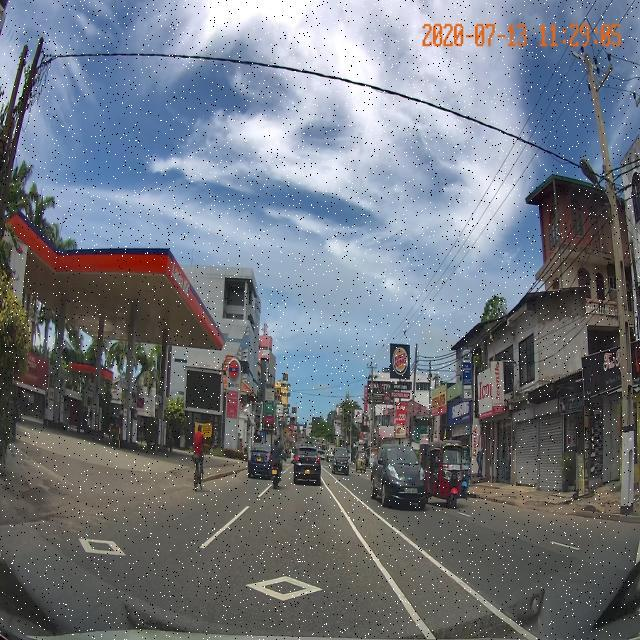diamond: (162, 560, 427, 630)
